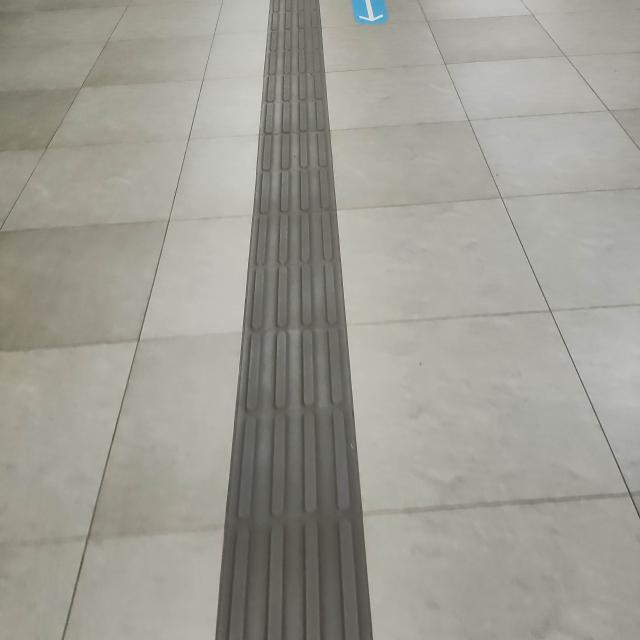lurus: (208, 22, 382, 640)
